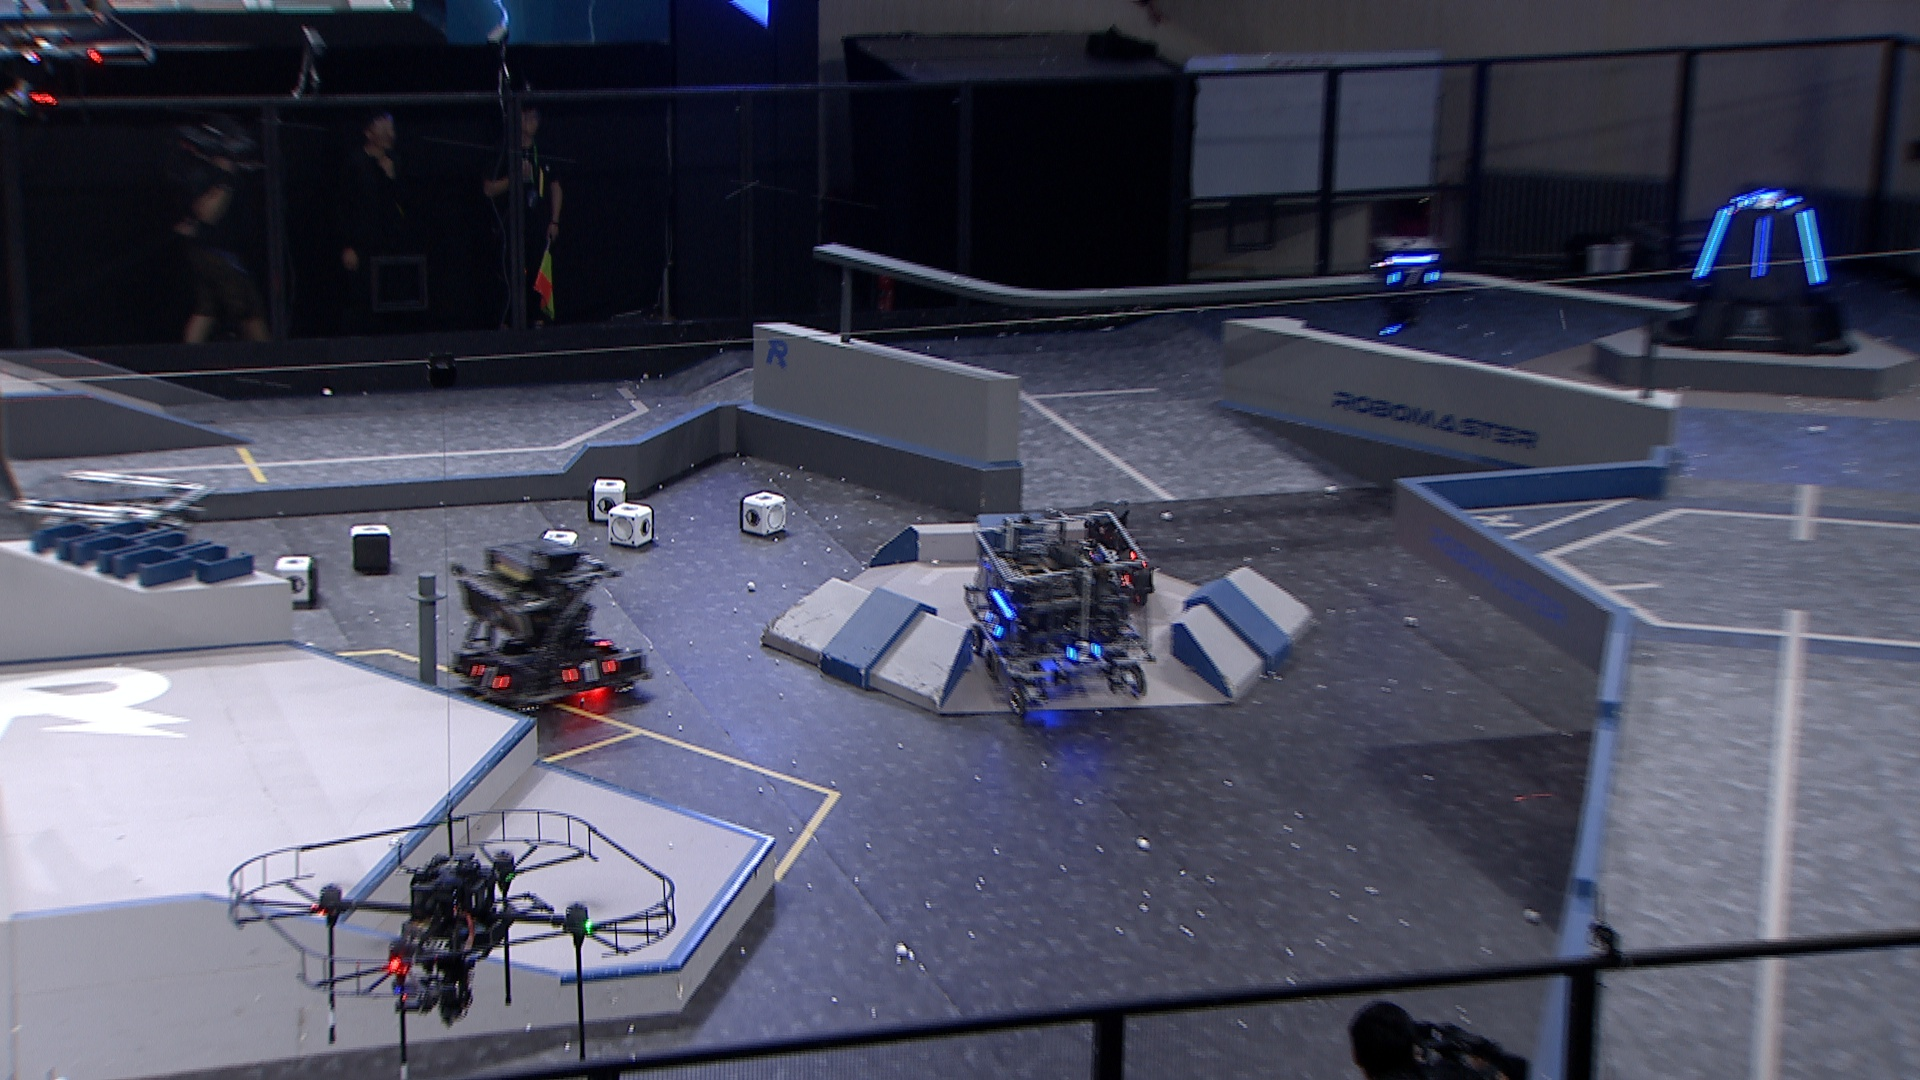armor: (1691, 206, 1737, 281), (1795, 208, 1828, 287), (1746, 216, 1774, 280), (560, 659, 617, 688), (467, 662, 513, 694), (1387, 266, 1441, 287), (1737, 194, 1793, 211), (1065, 640, 1101, 665), (981, 611, 1005, 641), (1100, 546, 1139, 562), (1102, 570, 1134, 589)
base: (1644, 183, 1863, 357)
car: (444, 537, 655, 723), (964, 510, 1153, 712), (5, 467, 204, 647), (1054, 498, 1159, 603)
watcher: (1367, 233, 1452, 342)
